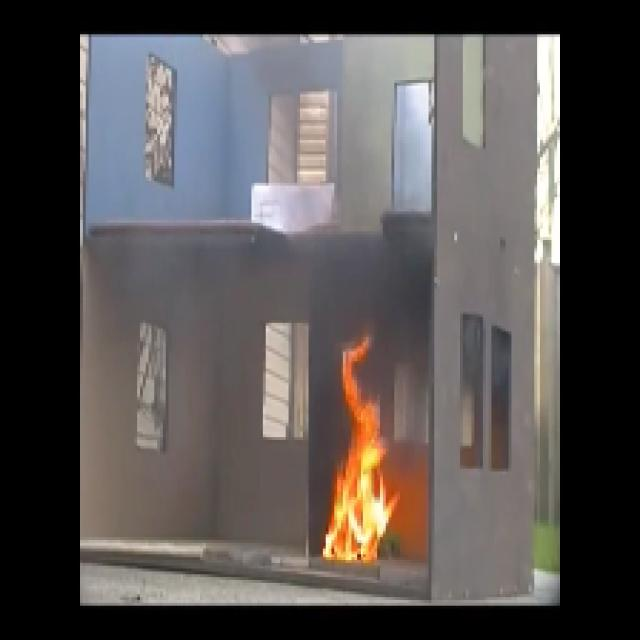fire: (326, 335, 398, 564)
